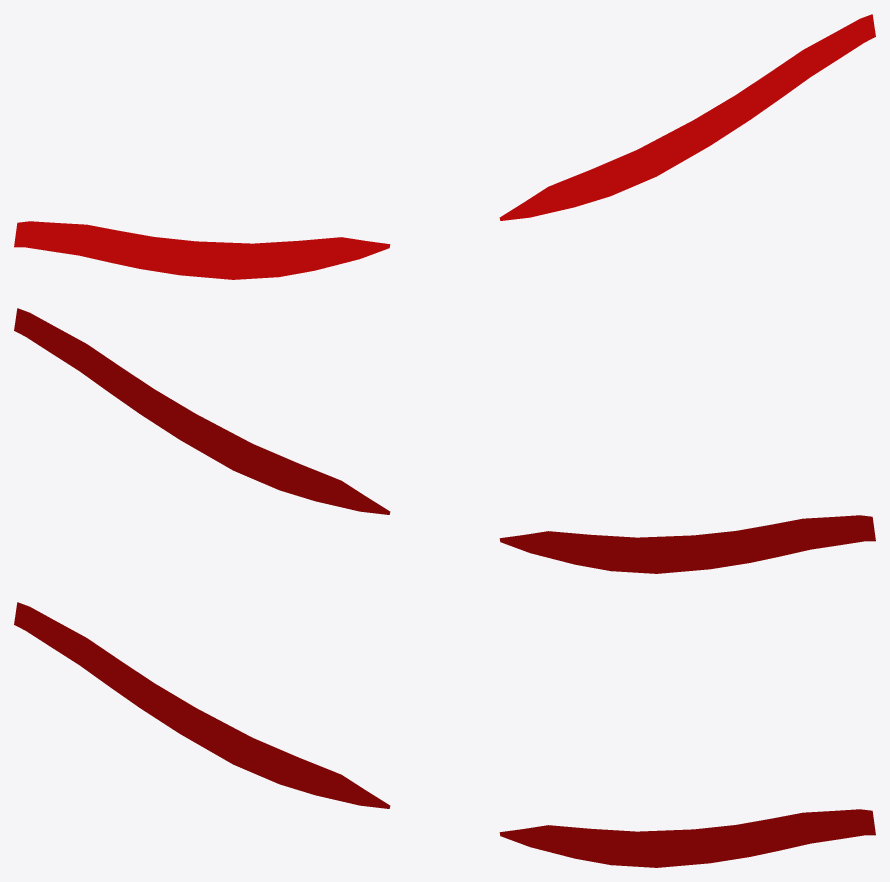
Rendered from frame120.fbx.
3 views of the same model, one above another, from view 1: azimuth 30°, elevation 25°; view 2: azimuth 150°, elevation 25°; view 3: azimuth 330°, elevation 25° (orthographic).
Visible parts, largest first — view 1: MaterialLayer; view 2: MaterialLayer; view 3: MaterialLayer.
Part boxes in pixels (x1,y1,x2,y2): MaterialLayer: (14,14,875,279); MaterialLayer: (14,308,875,573); MaterialLayer: (14,602,875,867).
Size of the model in its own units: 1407 by 188 by 0.
